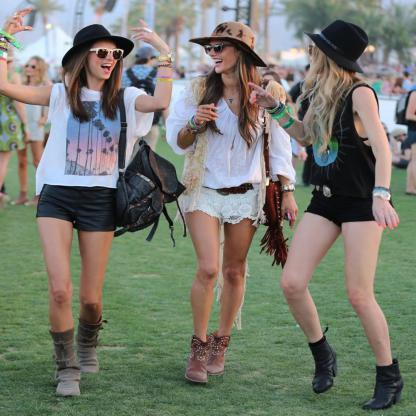face: (88, 44, 118, 80), (209, 41, 239, 74), (310, 42, 326, 74), (26, 61, 39, 77), (264, 77, 275, 91), (401, 133, 409, 142), (151, 56, 157, 67)
